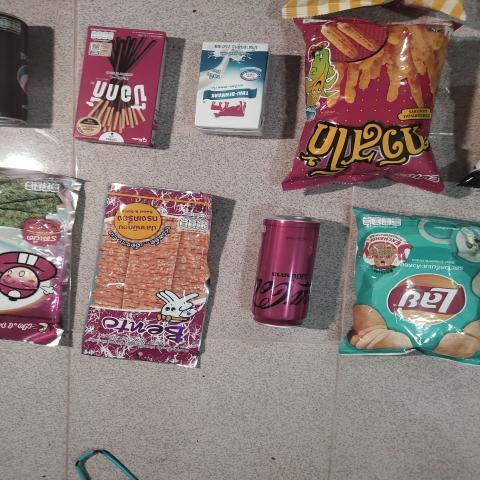bento_red: (94, 185, 206, 369)
coke_red: (254, 211, 310, 331)
lay_blue: (346, 222, 480, 350)
pokki: (82, 31, 159, 149)
thai_denmark: (194, 42, 263, 130)
twisco: (309, 30, 422, 180)
